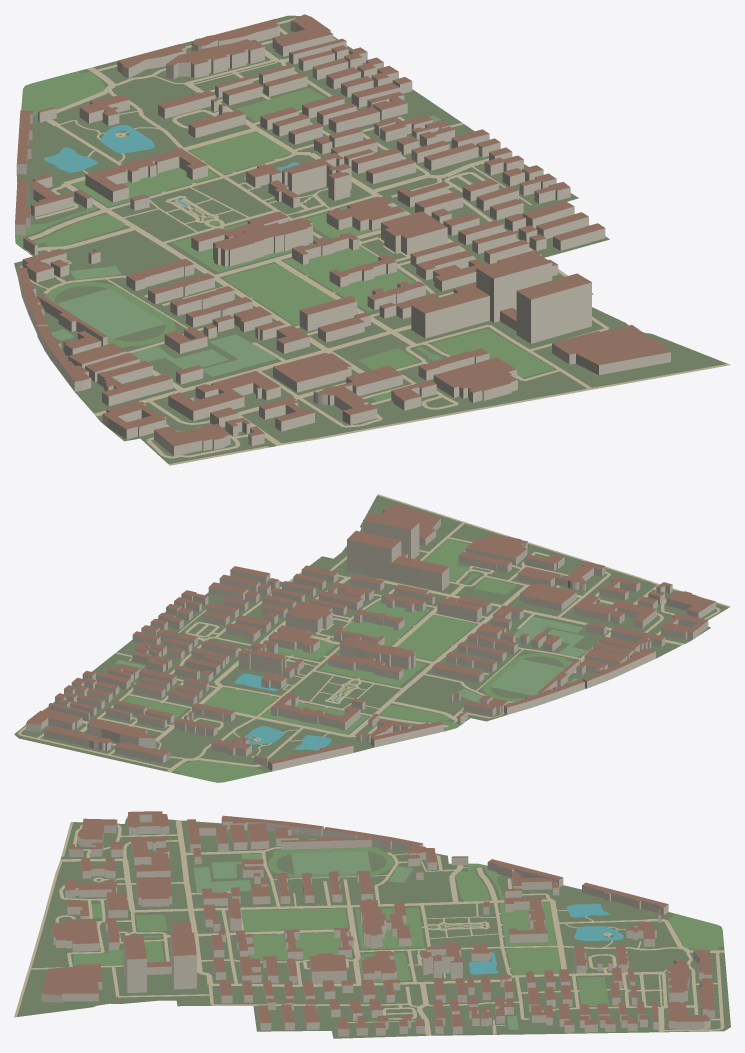
3 views of the same model, one above another, from view 1: azimuth 30°, elevation 25°; view 2: azimuth 150°, elevation 25°; view 3: azimuth 270°, elevation 25° (orthographic). The views are drawn at different scales.
Parts seen in each view (by area): view 1: buildings, campus-ground, roofs, environment (×4); view 2: buildings, campus-ground, roofs, environment (×4); view 3: campus-ground, environment (×4), roofs, buildings.
Part boxes in pixels (left/top/right/bottom): buildings: left=15, top=21, right=670, bottom=456; campus-ground: left=14, top=15, right=727, bottom=465; roofs: left=15, top=14, right=670, bottom=446; environment (×4): left=15, top=18, right=730, bottom=465; buildings: left=26, top=510, right=715, bottom=771; campus-ground: left=14, top=495, right=729, bottom=782; roofs: left=26, top=504, right=715, bottom=763; environment (×4): left=18, top=494, right=730, bottom=782; campus-ground: left=17, top=818, right=730, bottom=1038; environment (×4): left=14, top=820, right=724, bottom=1035; roofs: left=41, top=811, right=714, bottom=1028; buildings: left=41, top=814, right=714, bottom=1036.
Size of the model in its own units: 740 by 53 by 1018.
